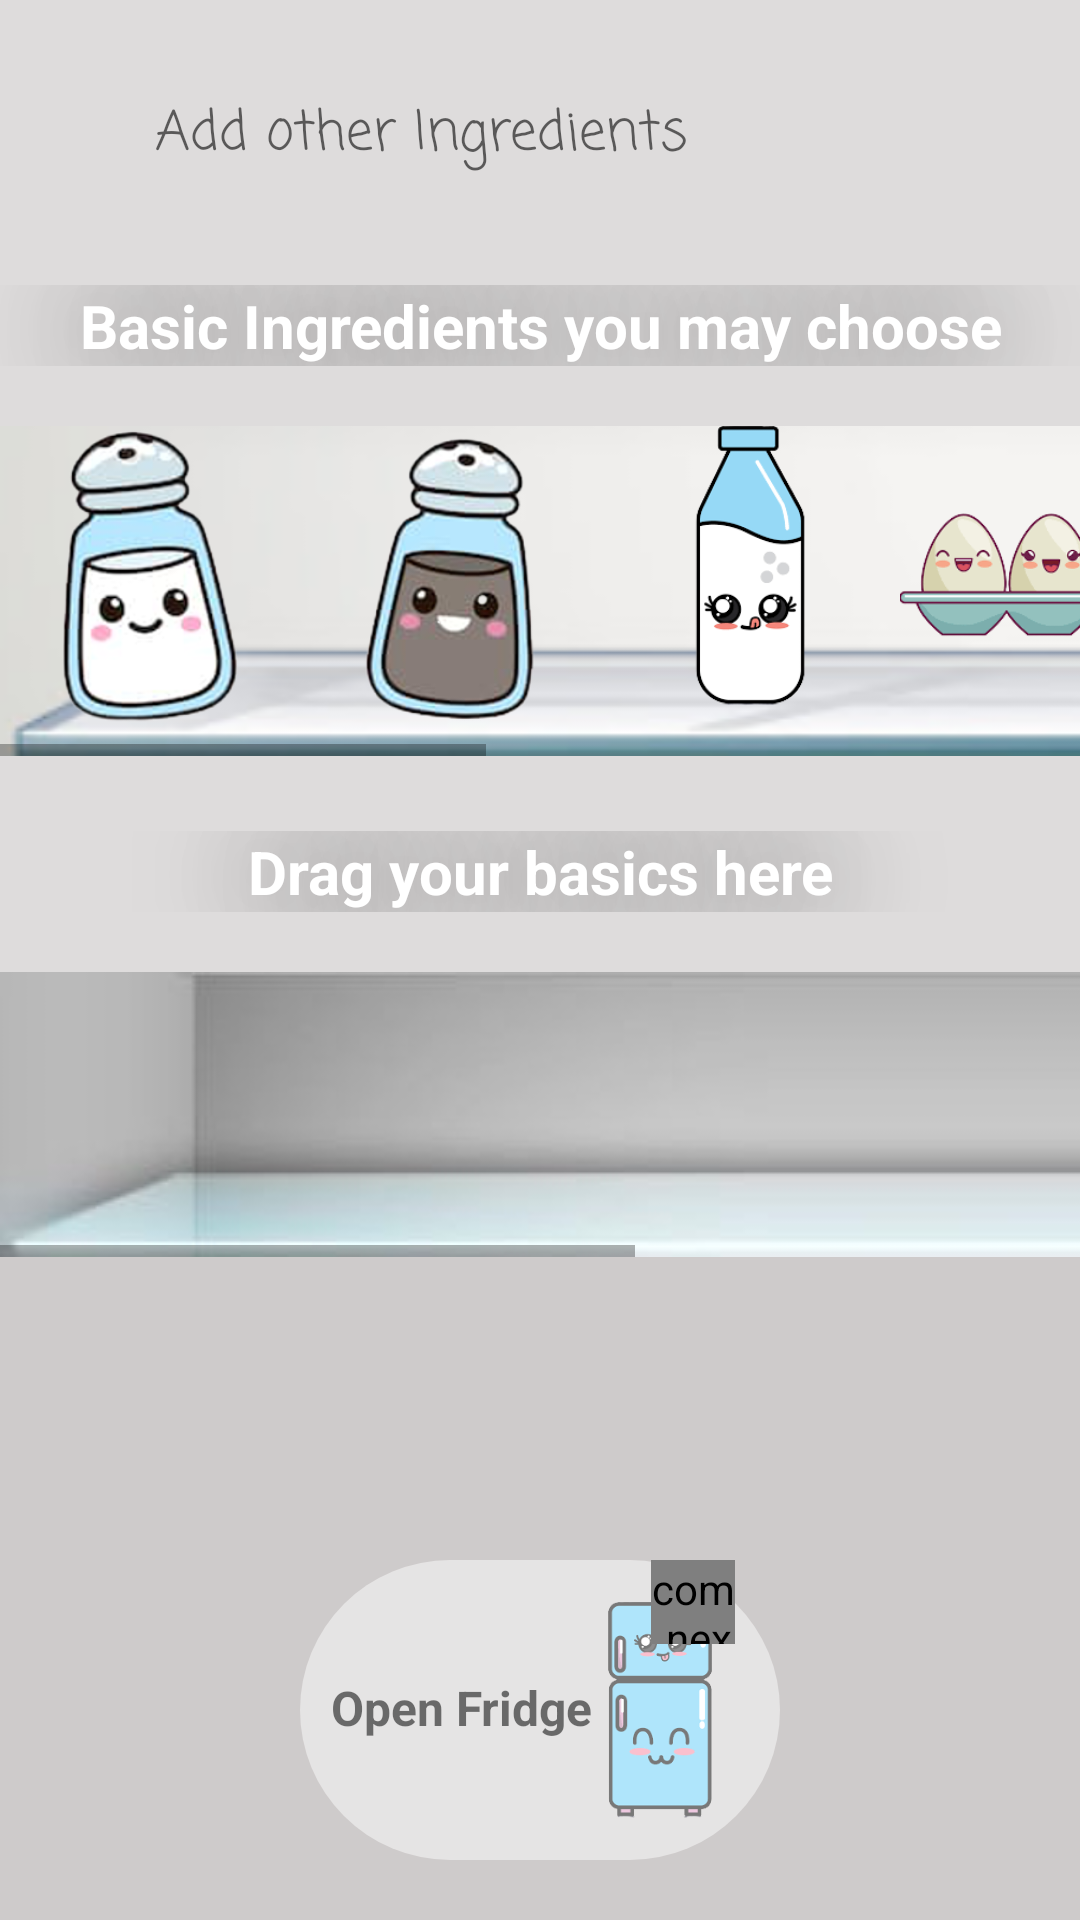

Where icons sit on this 1080 × 1920 app screen, as (x1, y1, x2, y2):
milk: (600, 426, 900, 705)
pepper: (300, 426, 600, 726)
salt: (0, 426, 300, 726)
